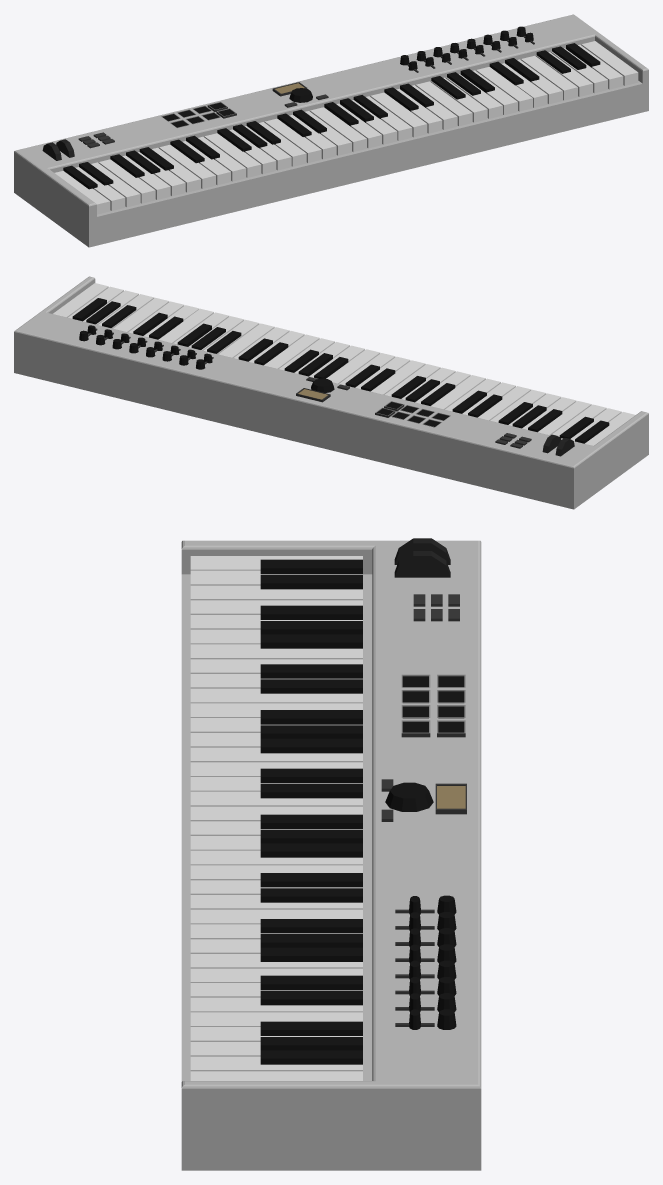
The model's file is Midi Keyboard14.fbx.
3 views of the same model, one above another, from view 1: azimuth 30°, elevation 25°; view 2: azimuth 150°, elevation 25°; view 3: azimuth 270°, elevation 25° (orthographic). The views are drawn at different scales.
Parts seen in each view (by area): view 1: 49keysmidi.015; view 2: 49keysmidi.015; view 3: 49keysmidi.015.
Part boxes in pixels (box(x1,y1,x2,y2)): 49keysmidi.015: box(14, 14, 648, 247); 49keysmidi.015: box(14, 276, 648, 509); 49keysmidi.015: box(181, 538, 481, 1170).
Bounding box in the file's own units: 86.17 × 7.81 × 19.98.
